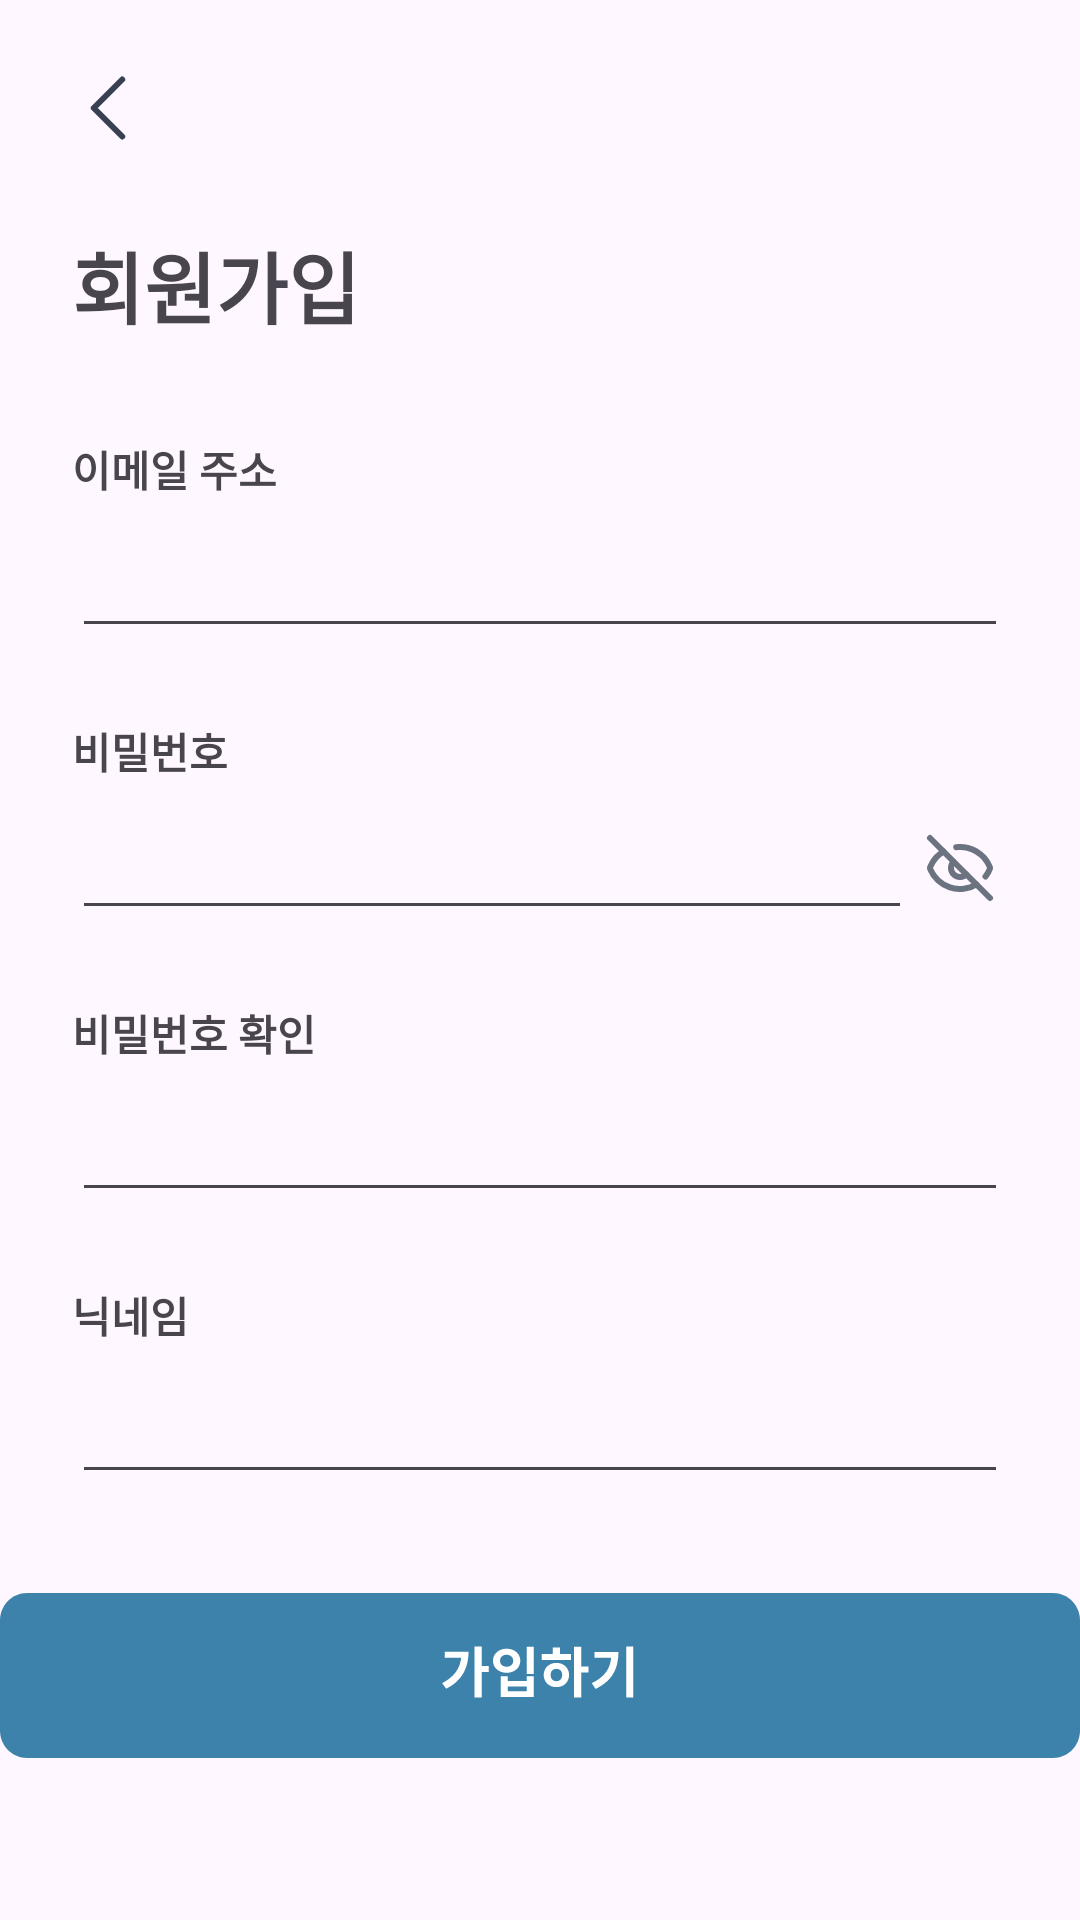

Screen size 1080px×1920px. Icon name, then its box in pixels as (x1, y1, x2, y2):
backbtn: (90, 76, 126, 140)
hide password: (927, 835, 993, 901)
